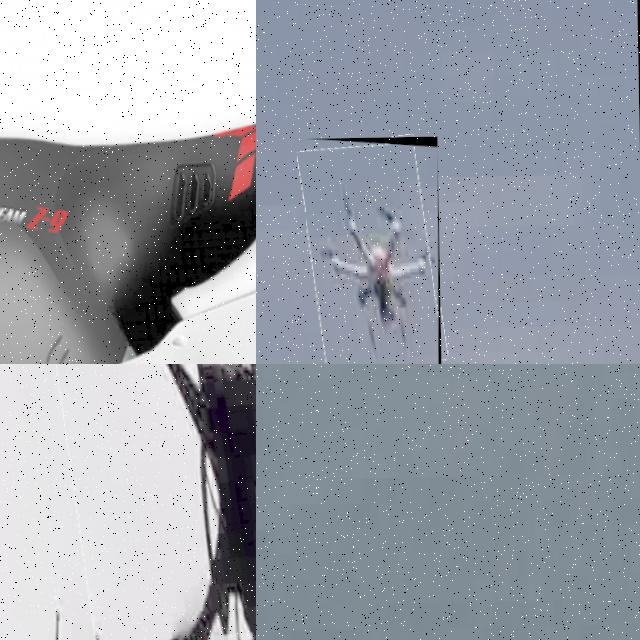0: (31, 364, 256, 640), (304, 136, 441, 364)
drone: (0, 0, 256, 364)
